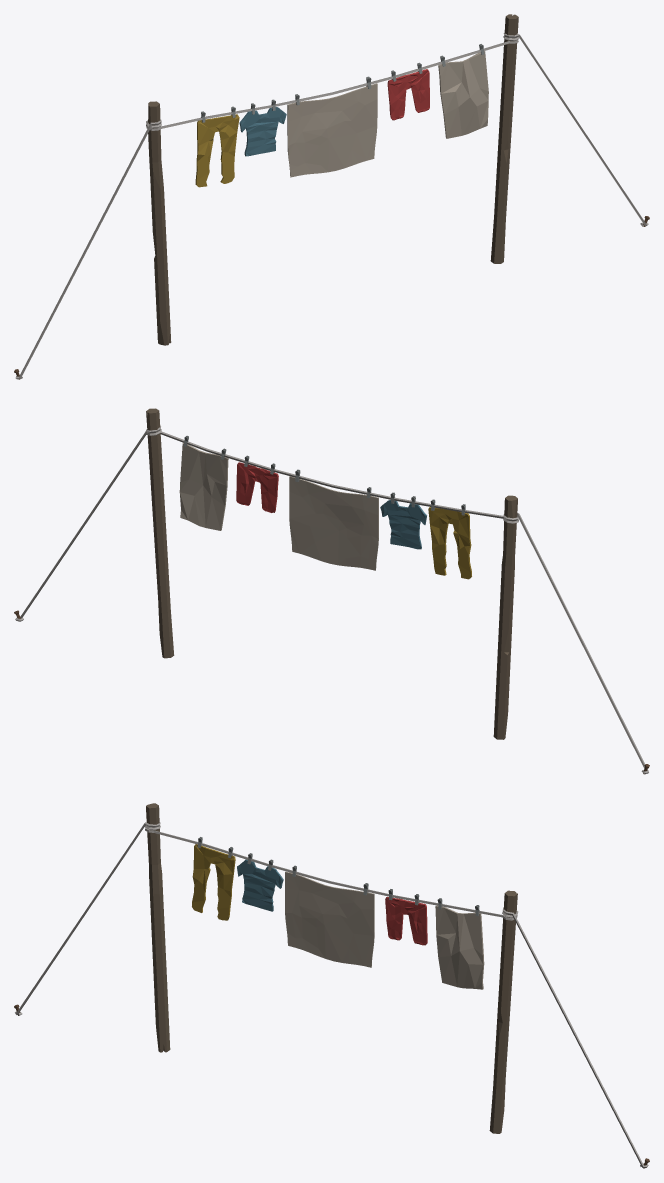
File: SM_Props_Farm_Clothesline_03.fbx
3 views of the same model, one above another, from view 1: azimuth 30°, elevation 25°; view 2: azimuth 150°, elevation 25°; view 3: azimuth 330°, elevation 25° (orthographic).
Visible parts, largest first — view 1: SM_Props_Farm_Clothesline_03; view 2: SM_Props_Farm_Clothesline_03; view 3: SM_Props_Farm_Clothesline_03.
Boxes of the visible parts, <box> form: SM_Props_Farm_Clothesline_03: <box>14,14,649,379</box>; SM_Props_Farm_Clothesline_03: <box>14,408,649,774</box>; SM_Props_Farm_Clothesline_03: <box>14,803,649,1168</box>.
Bounding box in the file's own units: 668 × 244 × 15.91.
